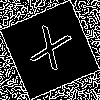X: (25, 25, 73, 80)
